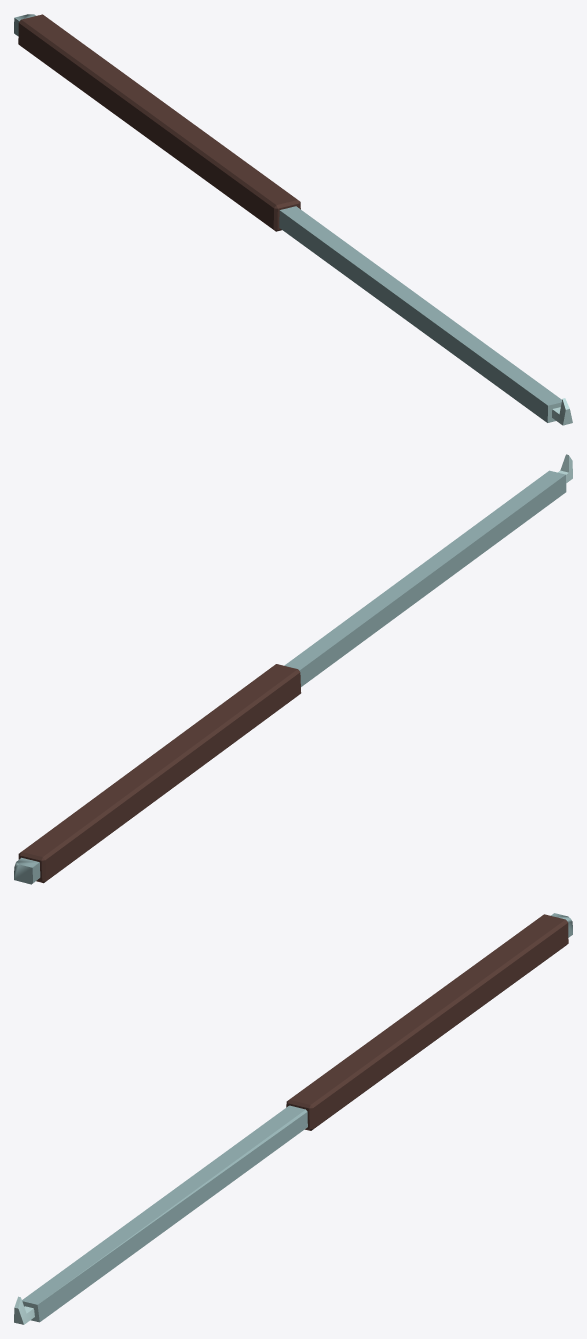
File: Tea_Stick.fbx
The picture shows the model from 3 angles, top to bottom: view 1: azimuth 30°, elevation 25°; view 2: azimuth 150°, elevation 25°; view 3: azimuth 330°, elevation 25°; orthographic projection.
Visible parts, largest first — view 1: Tea_Stick; view 2: Tea_Stick; view 3: Tea_Stick.
Part boxes in pixels (box(x1,y1,x2,y2)): Tea_Stick: box(14, 14, 572, 425); Tea_Stick: box(14, 454, 572, 884); Tea_Stick: box(14, 913, 572, 1324).
Bounding box in the file's own units: 0.0528 × 0.0656 × 1.8.
1 material, 1 textured.
